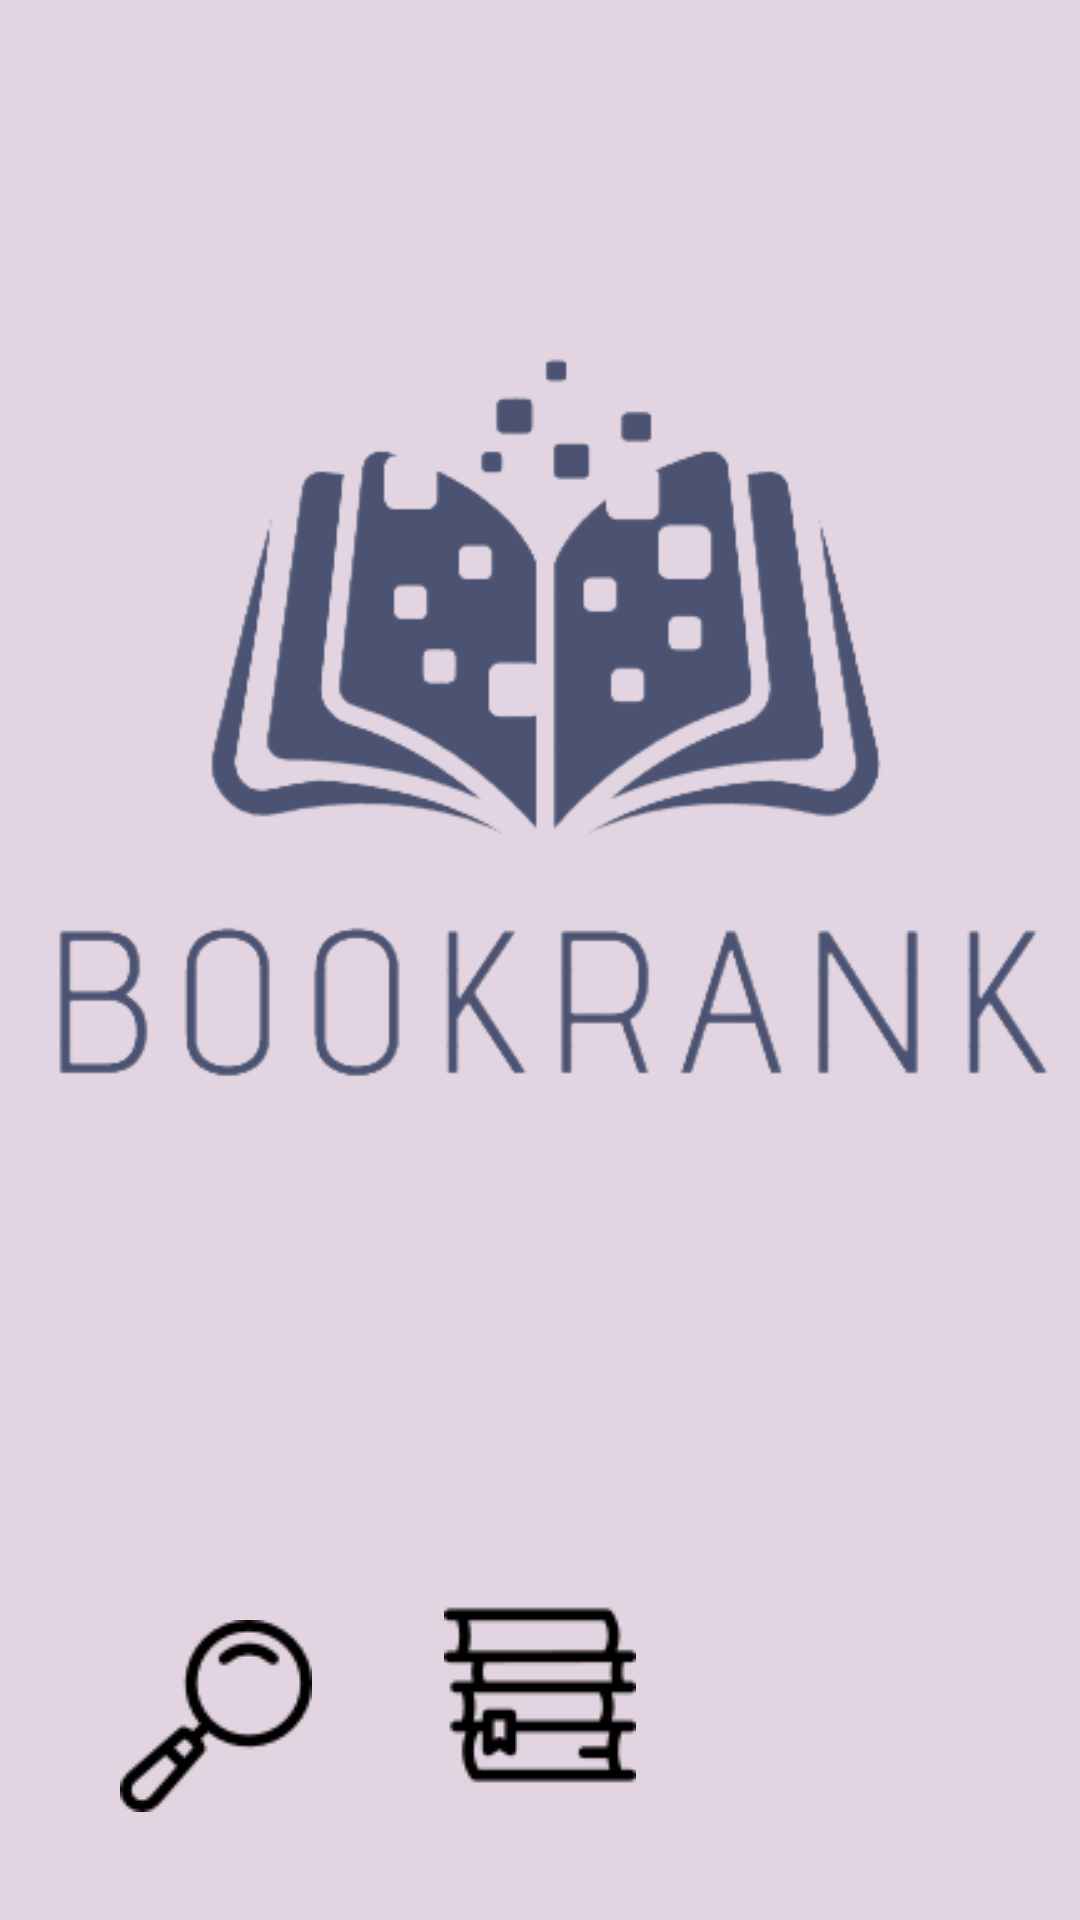

Screen size 1080x1920. Icon name, then its box in pixels as {"x1": x1, "y1": y1, "x2": x2, "y2": y2}:
Botón para acceder a tus listas de libros: {"x1": 444, "y1": 1607, "x2": 636, "y2": 1783}
Botón para buscar nuevos libros: {"x1": 120, "y1": 1620, "x2": 312, "y2": 1812}
